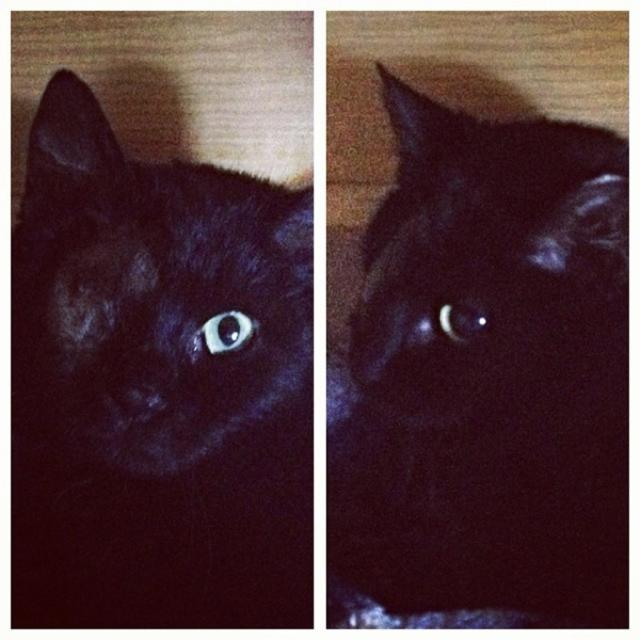Cat: (11, 62, 313, 632), (336, 58, 628, 633)
